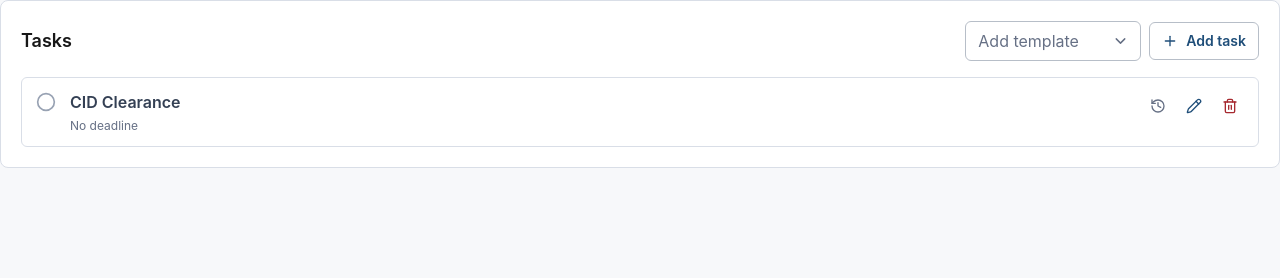
Test: TaskPanel › loads activity history only when it is opened
Expected: the text "CID Clearance" is shown, [70,90,180,114]
What coordinates should you click on to do the following:
click the button named "Show activity for CID Clearance"
I would click on:
 (1158, 106)
Its box is [1142,90,1174,122].
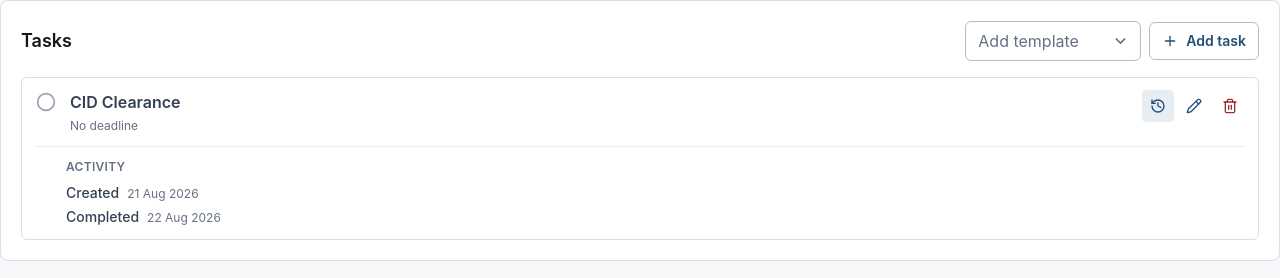
Now the text "Created" is shown, box [66,183,119,203]
Now the text "Completed" is shown, box [66,207,139,227]
